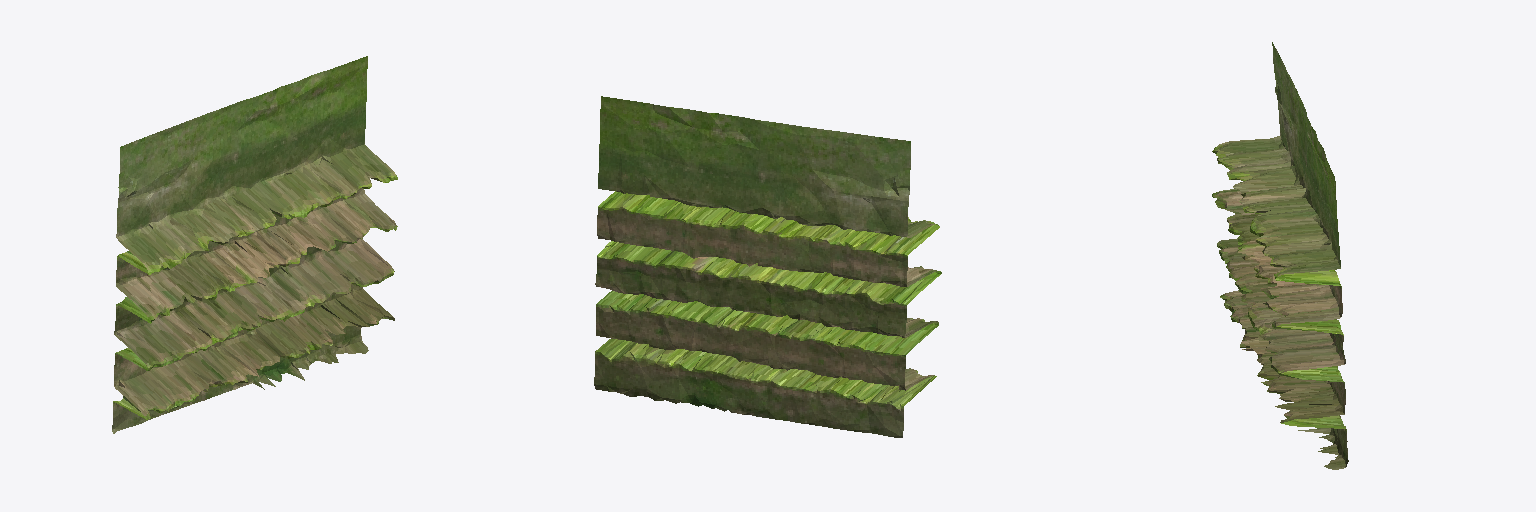
3 renders of one model, left to right at view 1: azimuth 30°, elevation 25°; view 2: azimuth 150°, elevation 25°; view 3: azimuth 270°, elevation 25°, orthographic.
Visible parts, largest first — view 1: grp1; view 2: grp1; view 3: grp1.
Boxes of the visible parts, <box> form: grp1: <box>112,56,397,433</box>; grp1: <box>594,96,941,437</box>; grp1: <box>1212,42,1348,469</box>.
Size of the model in its own units: 10 by 10 by 4.26.
Materials: 1 (1 with a texture image).